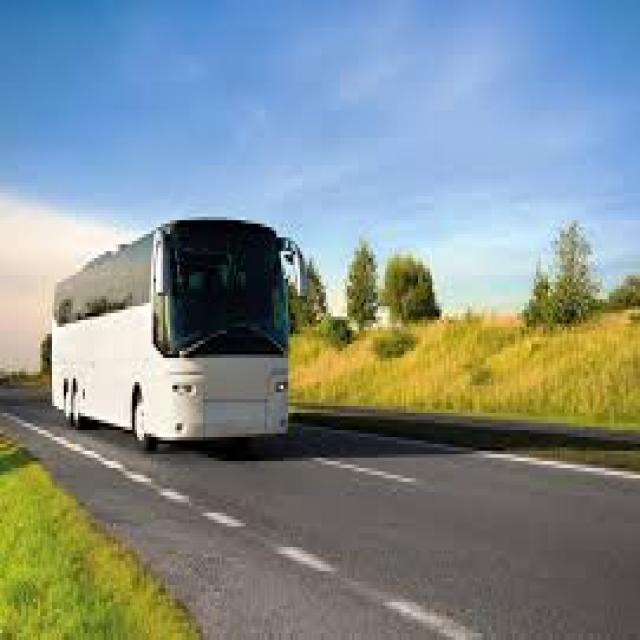BUS: (14, 199, 302, 482)
